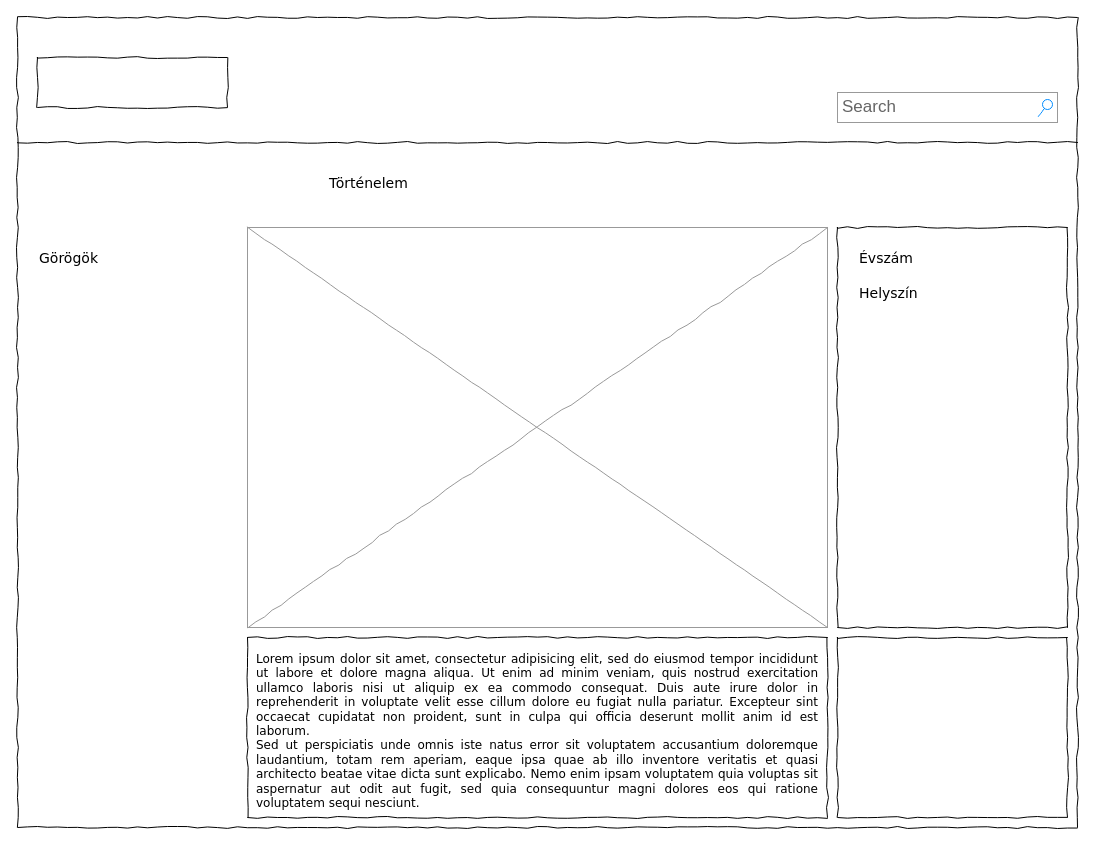
Some shapes in this 1095 by 845 pixel diagram are drawn without their labels. Each missing label, with the centre of its shape:
"External Links" belongs at pixel 952 727.
"Projekt" belongs at pixel 132 82.
